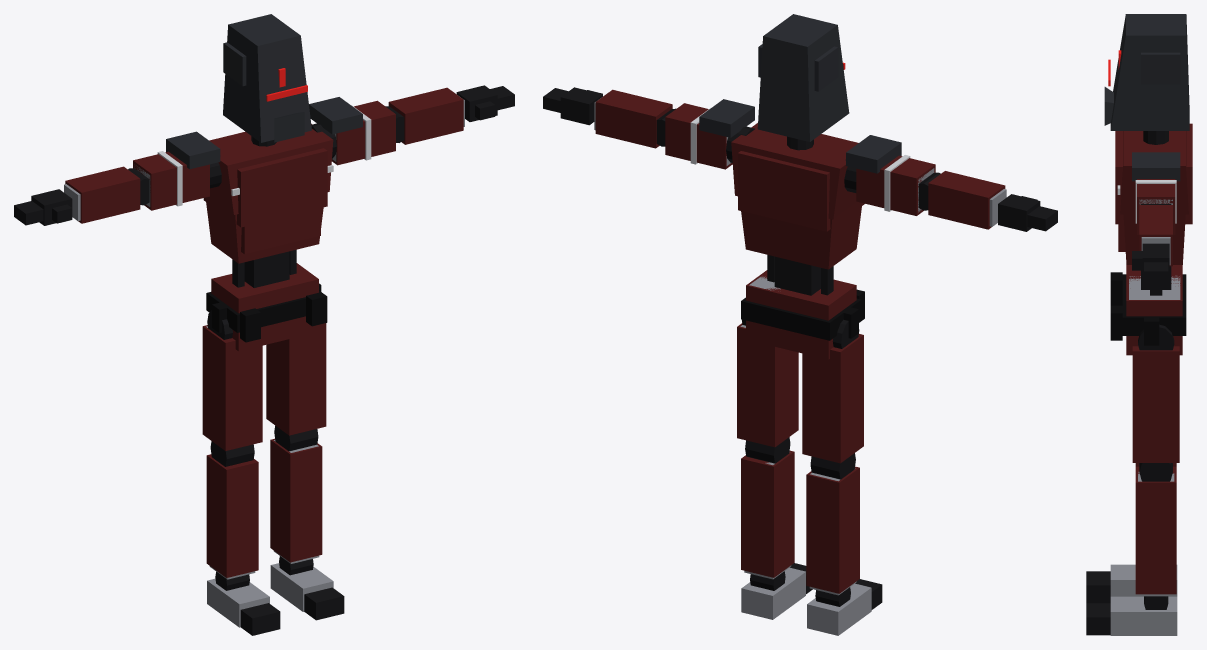
File: char_F2_security.obj
3 renders of one model, left to right at view 1: azimuth 30°, elevation 25°; view 2: azimuth 150°, elevation 25°; view 3: azimuth 270°, elevation 25°, orthographic. The views are drawn at different scales.
Visible parts, largest first — view 1: Coverall_Security, ChassisJoints, Helmet_Combat, Vest_Light, Chassis, Belt_Combat, Pauldrons_Light, Coverall_Security_Stripe; view 2: Coverall_Security, ChassisJoints, Helmet_Combat, Vest_Light, Chassis, Pauldrons_Light, Belt_Combat, Coverall_Security_Stripe; view 3: Coverall_Security, Helmet_Combat, ChassisJoints, Chassis, Belt_Combat, Vest_Light, Pauldrons_Light, Coverall_Security_Stripe.
Boxes of the visible parts, x1=… form: Coverall_Security: x1=65, y1=87, x2=463, y2=577; ChassisJoints: x1=14, y1=85, x2=514, y2=635; Helmet_Combat: x1=223, y1=14, x2=311, y2=142; Vest_Light: x1=203, y1=148, x2=327, y2=254; Chassis: x1=64, y1=92, x2=464, y2=627; Belt_Combat: x1=206, y1=283, x2=327, y2=342; Pauldrons_Light: x1=166, y1=97, x2=362, y2=169; Coverall_Security_Stripe: x1=157, y1=105, x2=371, y2=206; Coverall_Security: x1=595, y1=89, x2=1005, y2=593; ChassisJoints: x1=543, y1=87, x2=1057, y2=609; Helmet_Combat: x1=757, y1=14, x2=849, y2=141; Vest_Light: x1=738, y1=151, x2=864, y2=231; Chassis: x1=594, y1=92, x2=1006, y2=635; Pauldrons_Light: x1=699, y1=99, x2=901, y2=173; Belt_Combat: x1=741, y1=289, x2=864, y2=340; Coverall_Security_Stripe: x1=690, y1=107, x2=910, y2=211; Coverall_Security: x1=1120, y1=131, x2=1188, y2=594; Helmet_Combat: x1=1104, y1=14, x2=1189, y2=130; ChassisJoints: x1=1086, y1=131, x2=1174, y2=635; Chassis: x1=1110, y1=199, x2=1180, y2=635; Belt_Combat: x1=1110, y1=272, x2=1186, y2=345; Vest_Light: x1=1115, y1=123, x2=1192, y2=251; Pauldrons_Light: x1=1132, y1=152, x2=1180, y2=181; Coverall_Security_Stripe: x1=1117, y1=180, x2=1176, y2=223.
Size of the model in its own units: 1.69 by 1.88 by 0.308.
